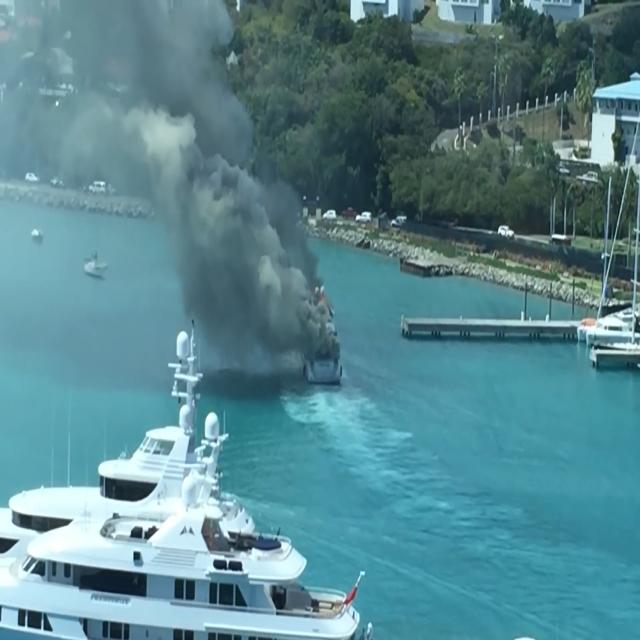smoke: (196, 145, 336, 357)
